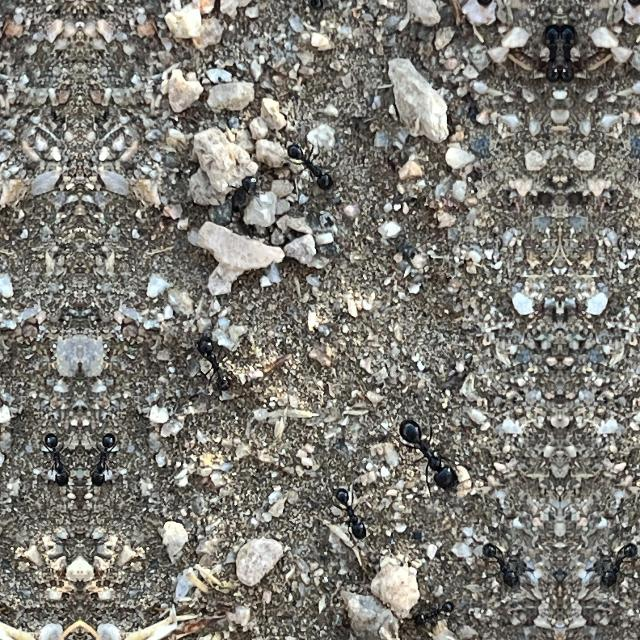Messor: (384, 388, 476, 518), (192, 332, 244, 412), (471, 528, 531, 596), (589, 528, 640, 596), (87, 422, 129, 498), (31, 422, 73, 498), (283, 140, 335, 188), (334, 487, 382, 537), (532, 15, 560, 89), (560, 15, 588, 89), (218, 164, 250, 222), (412, 598, 461, 630)
